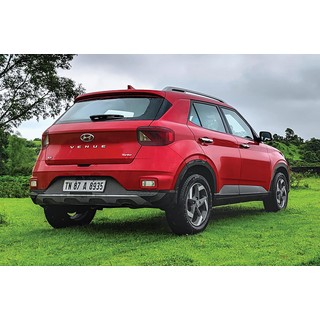car: (29, 86, 291, 237)
